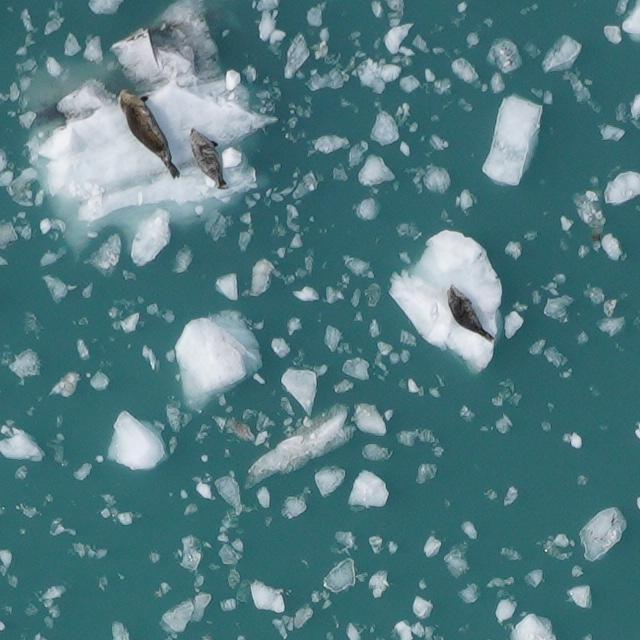seal: (110, 78, 186, 189), (435, 278, 497, 353), (182, 121, 229, 197)
